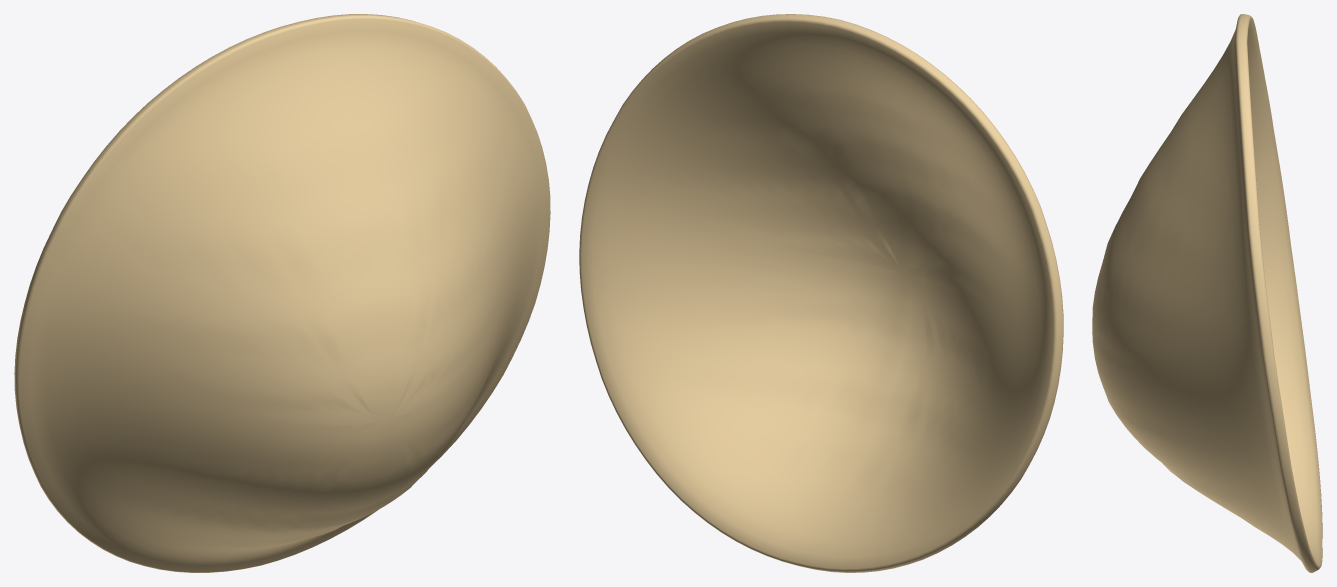
File: Masculine-nose-rounded.glb
The picture shows the model from 3 angles, left to right: view 1: azimuth 30°, elevation 25°; view 2: azimuth 150°, elevation 25°; view 3: azimuth 270°, elevation 25°; orthographic projection. The views are drawn at different scales.
Parts seen in each view (by area): view 1: Face / rounded nose; view 2: Face / rounded nose; view 3: Face / rounded nose.
Part boxes in pixels (<box>): Face / rounded nose: <box>14,14,550,572</box>; Face / rounded nose: <box>579,14,1063,572</box>; Face / rounded nose: <box>1092,14,1322,572</box>.
Size of the model in its own units: 0.068 by 0.07 by 0.0287.
